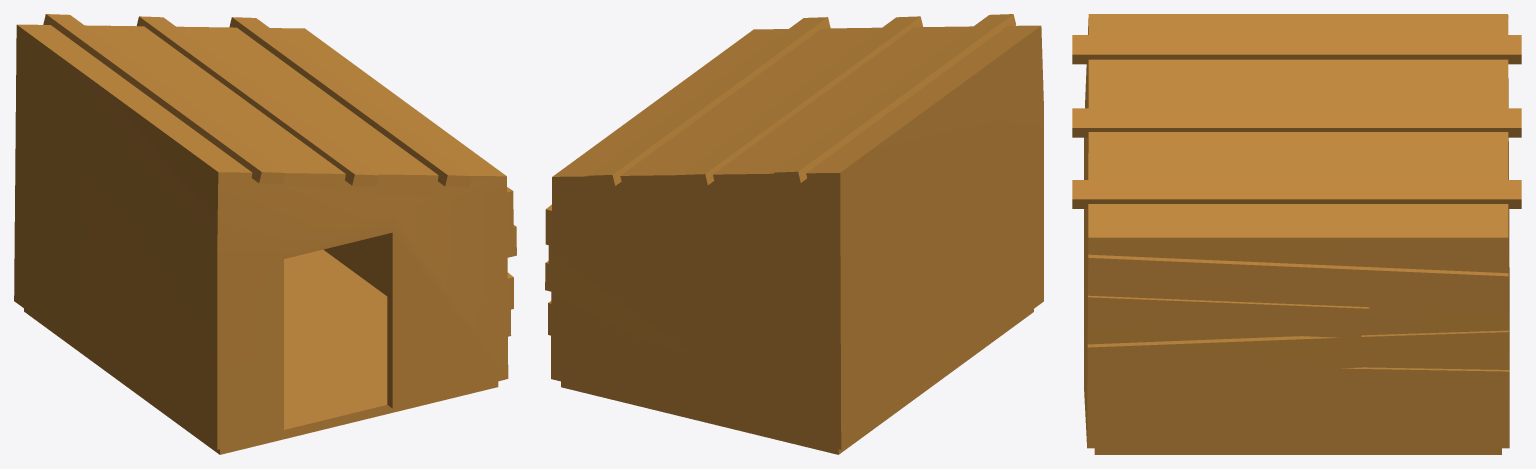
The model's file is shed_01.fbx.
3 views of the same model, side by side, from view 1: azimuth 30°, elevation 25°; view 2: azimuth 150°, elevation 25°; view 3: azimuth 270°, elevation 25° (orthographic). The views are drawn at different scales.
Visible parts, largest first — view 1: Shed_01; view 2: Shed_01; view 3: Shed_01.
Boxes of the visible parts, box(x1,y1,x2,y2) form: Shed_01: box(14, 14, 516, 454); Shed_01: box(545, 14, 1043, 454); Shed_01: box(1072, 14, 1521, 454).
Size of the model in its own units: 79.46 by 99.1 by 72.41.
